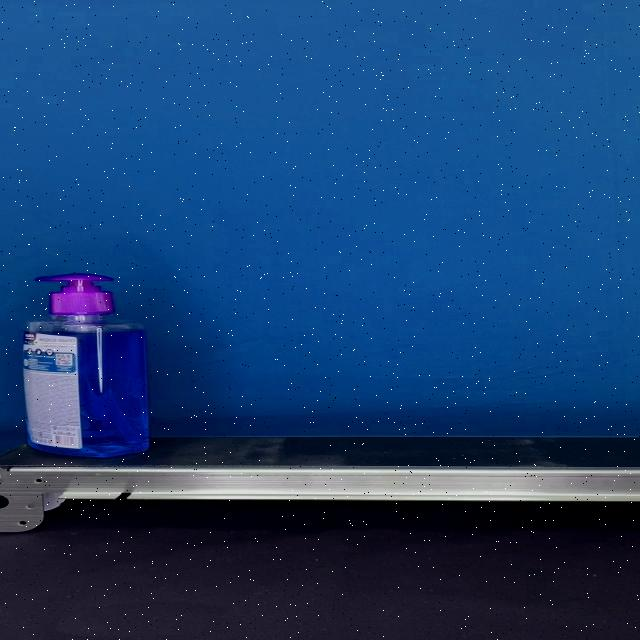Bottle: (20, 274, 149, 457)
Cap: (35, 273, 117, 315)
